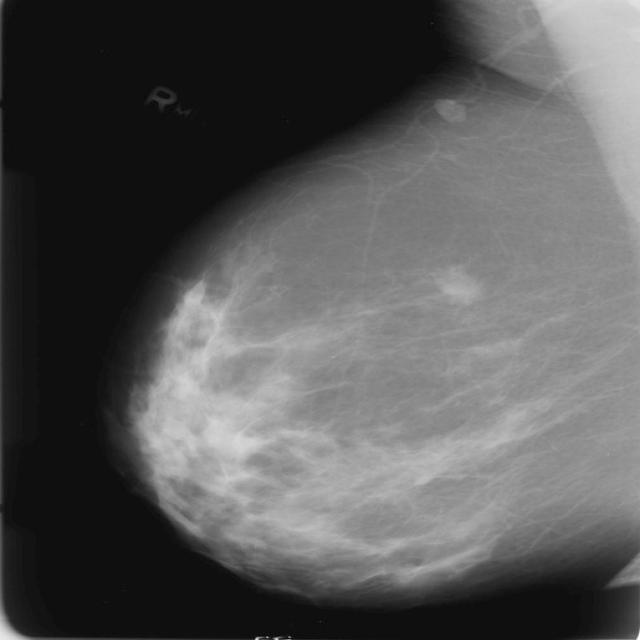tumour: (435, 266, 482, 306)
